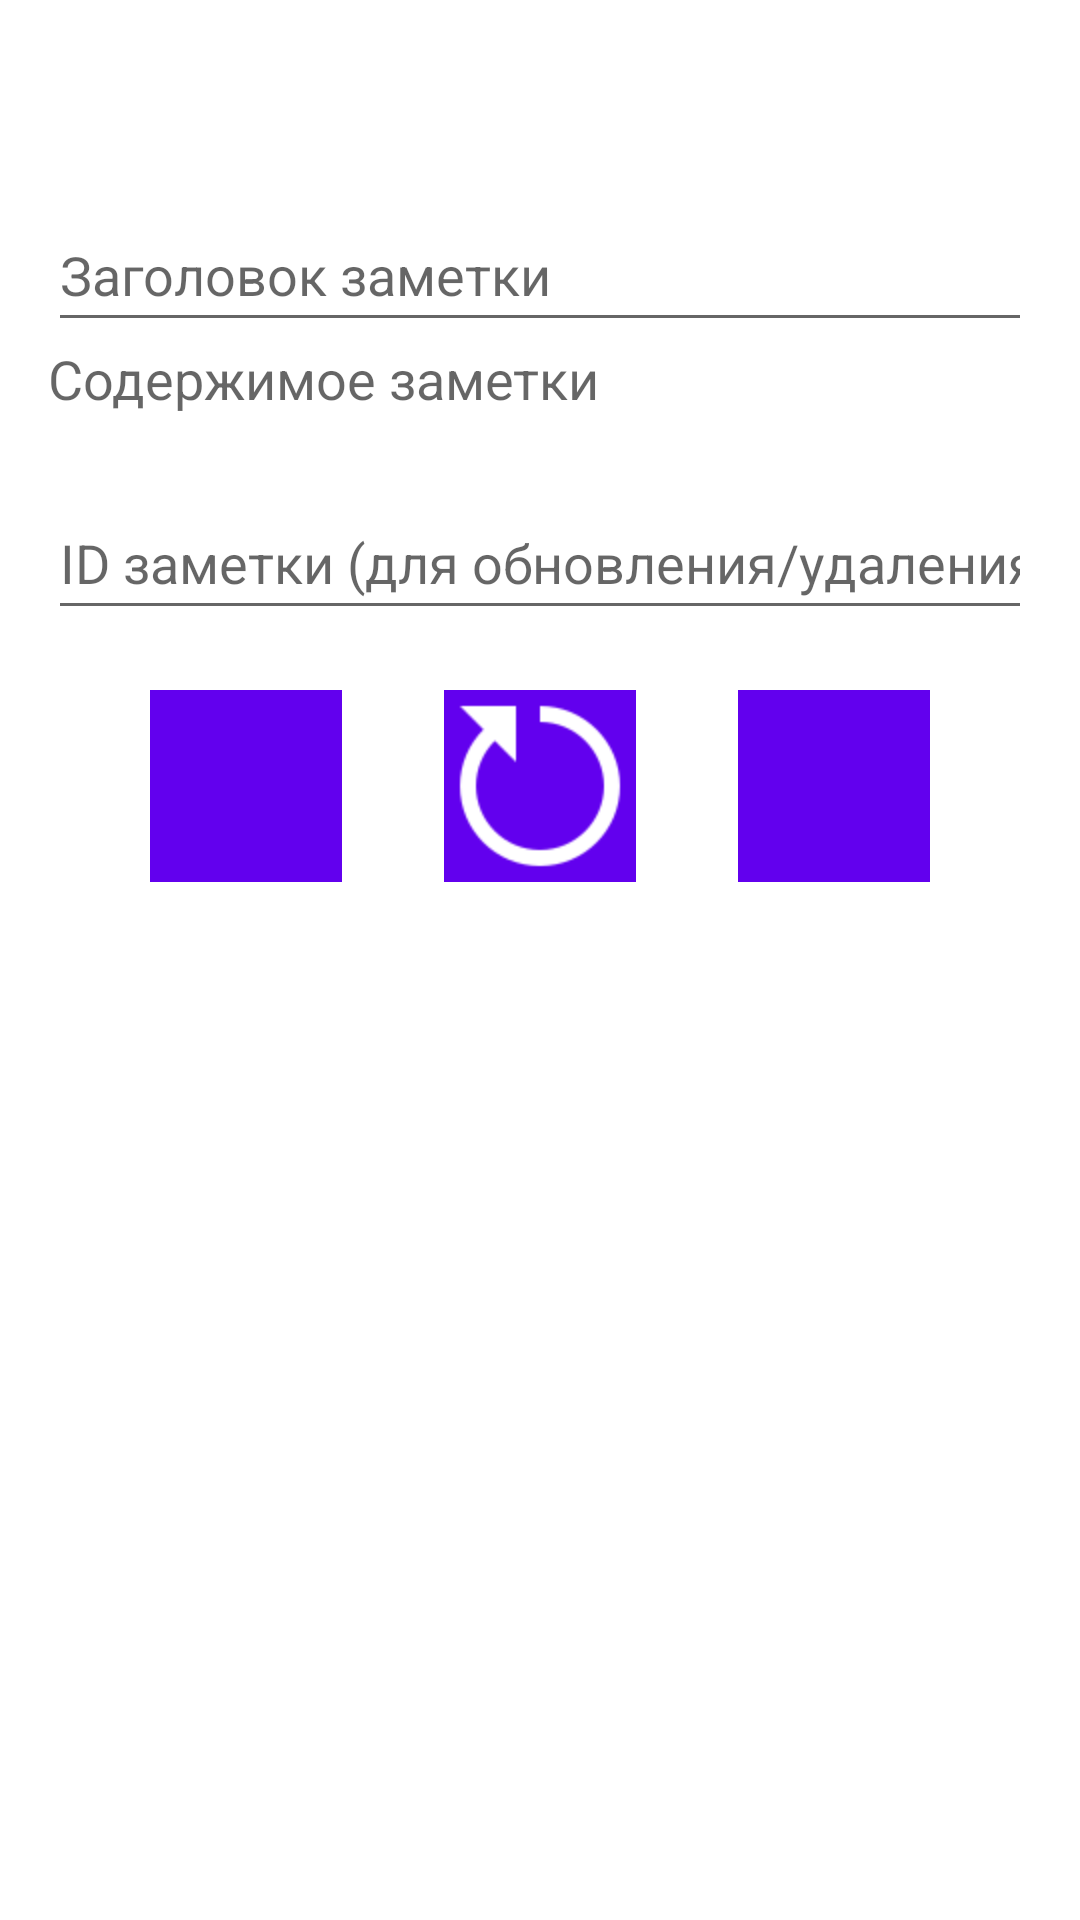

Icon click points for this 1080×1920 phone screenshot, format point (x, y):
update: point (540, 786)
